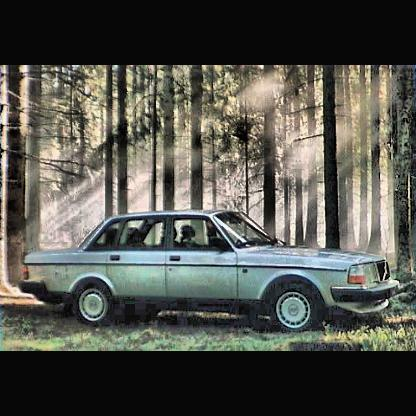Volvo 240 Sedan 1993: (21, 208, 399, 336)
